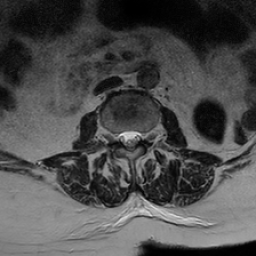CCS_normal: (126, 124, 133, 154)
LFS_normal: (140, 124, 147, 147)
LLS_normal: (133, 125, 140, 148)
RFS_normal: (110, 124, 118, 148)
RLS_normal: (118, 124, 126, 149)
